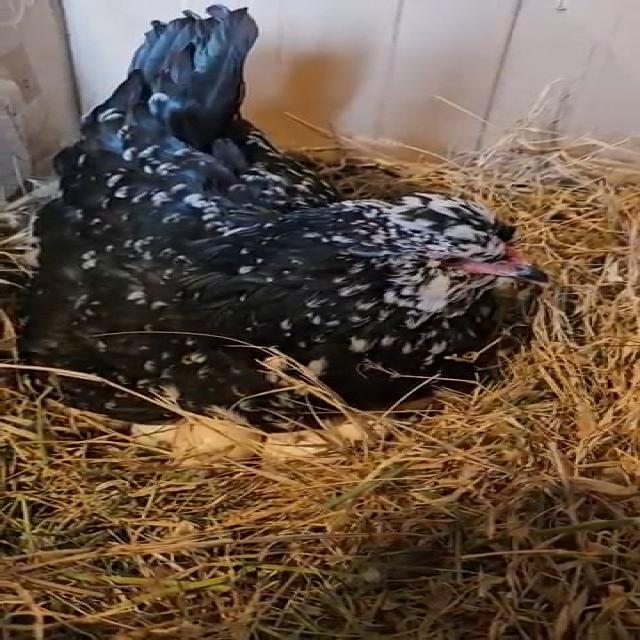crouch chicken: (0, 0, 587, 432)
